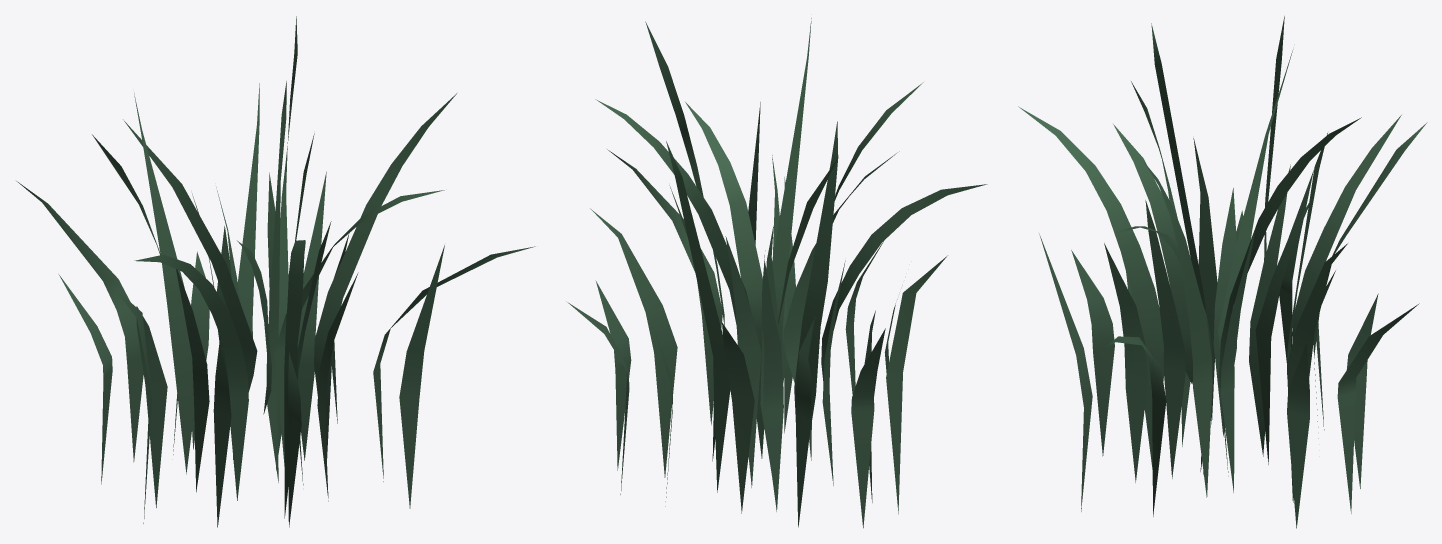
The model's file is trees-grasses-grass-clump_v2.glb.
3 views of the same model, side by side, from view 1: azimuth 30°, elevation 25°; view 2: azimuth 150°, elevation 25°; view 3: azimuth 270°, elevation 25° (orthographic). The views are drawn at different scales.
Parts seen in each view (by area): view 1: Grass Clump_v2; view 2: Grass Clump_v2; view 3: Grass Clump_v2.
Part boxes in pixels (x1,y1,x2,y2): Grass Clump_v2: (16, 16, 535, 527); Grass Clump_v2: (566, 18, 987, 528); Grass Clump_v2: (1018, 16, 1427, 528).
Size of the model in its own units: 0.3691 by 0.4 by 0.3233.
